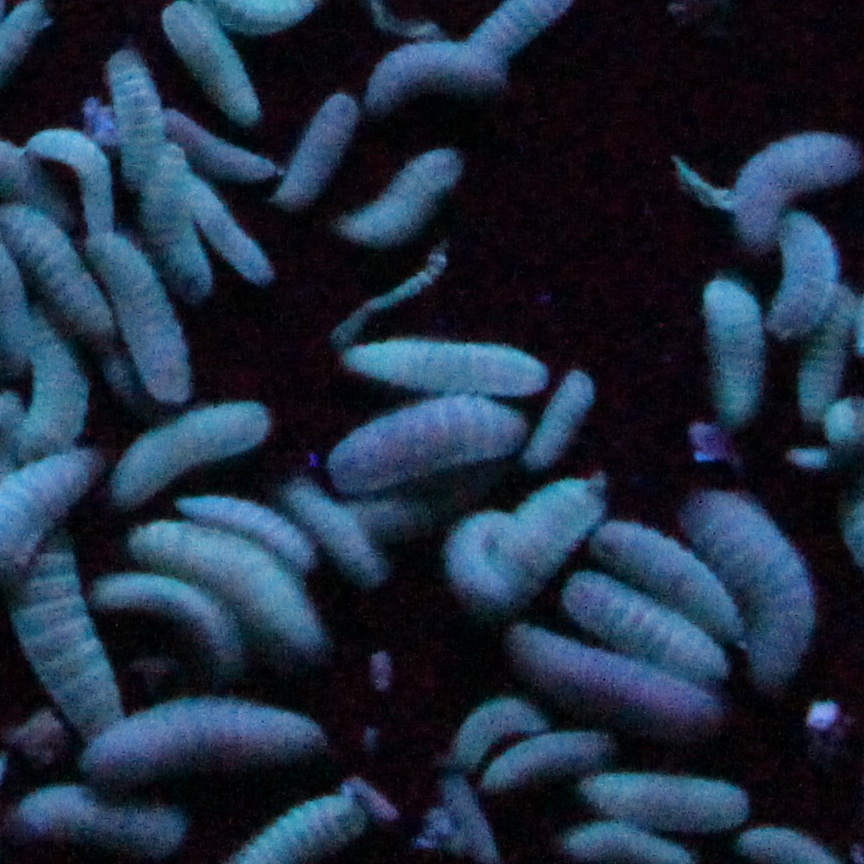larve: (675, 478, 818, 690), (134, 523, 341, 663), (508, 621, 725, 739), (563, 564, 743, 687), (86, 701, 330, 782), (330, 397, 527, 490), (87, 239, 198, 401), (601, 518, 743, 632), (111, 404, 272, 504), (737, 123, 863, 247), (91, 576, 243, 676), (163, 1, 260, 130), (336, 342, 544, 401), (486, 482, 600, 585), (179, 171, 280, 278), (572, 768, 758, 826), (343, 152, 461, 242), (363, 45, 513, 113), (178, 493, 315, 564), (705, 280, 768, 430), (290, 477, 380, 582), (277, 97, 356, 211), (40, 126, 119, 232), (107, 46, 165, 184), (518, 368, 591, 466), (446, 509, 519, 604), (782, 207, 834, 330), (447, 691, 547, 754)
